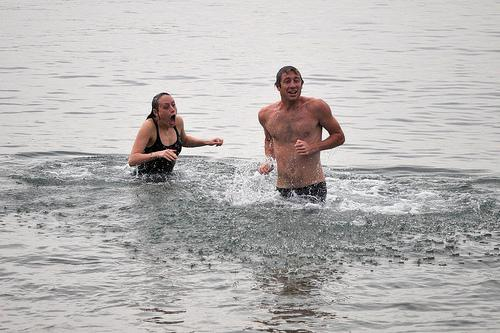human: (256, 64, 348, 202), (127, 90, 224, 175)
